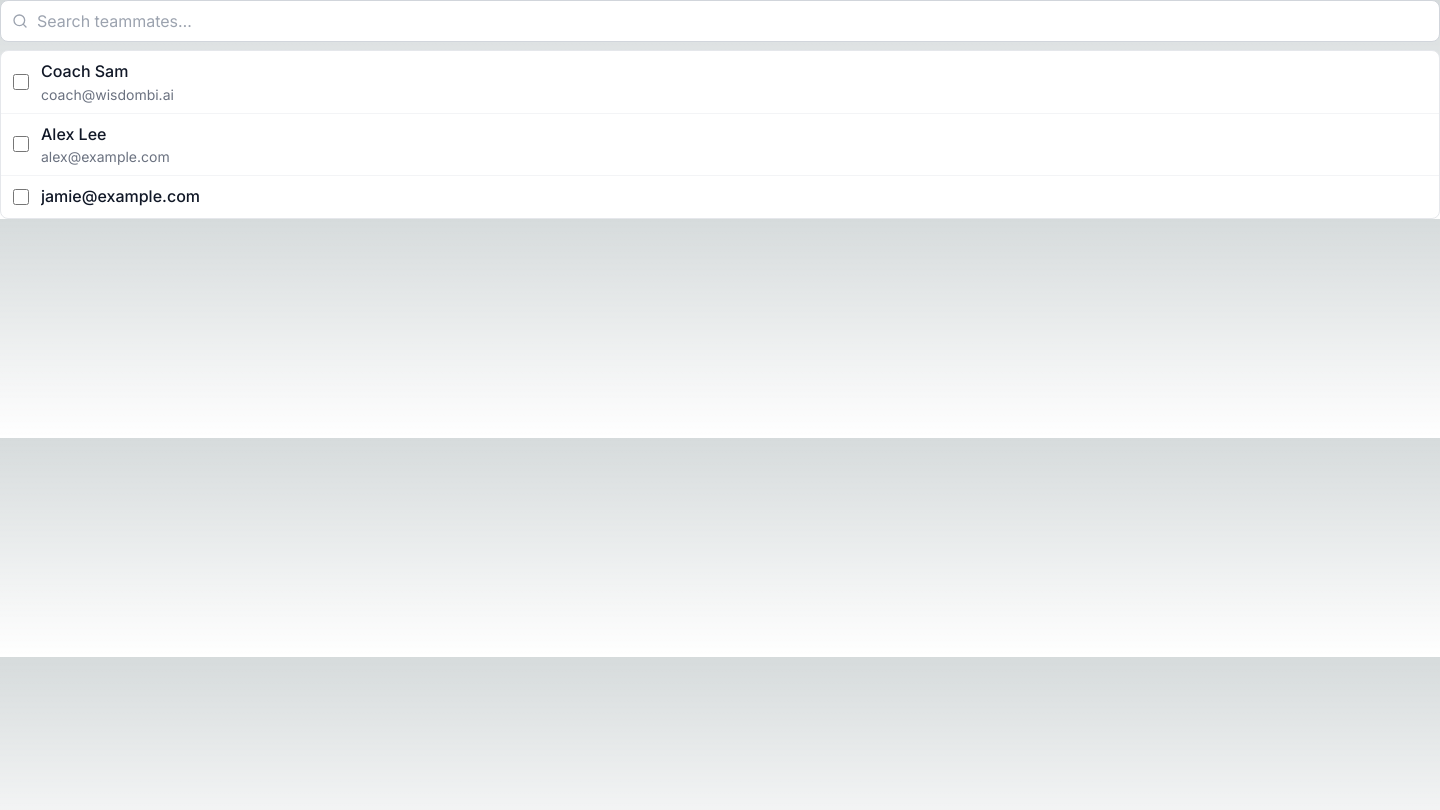
it: TeammatePicker › filters by display name substring (case-insensitive)
Type "aLex" into the field labelled "Search teammates" at (720, 21), box top-left (0, 0), bottom-right (1439, 42)
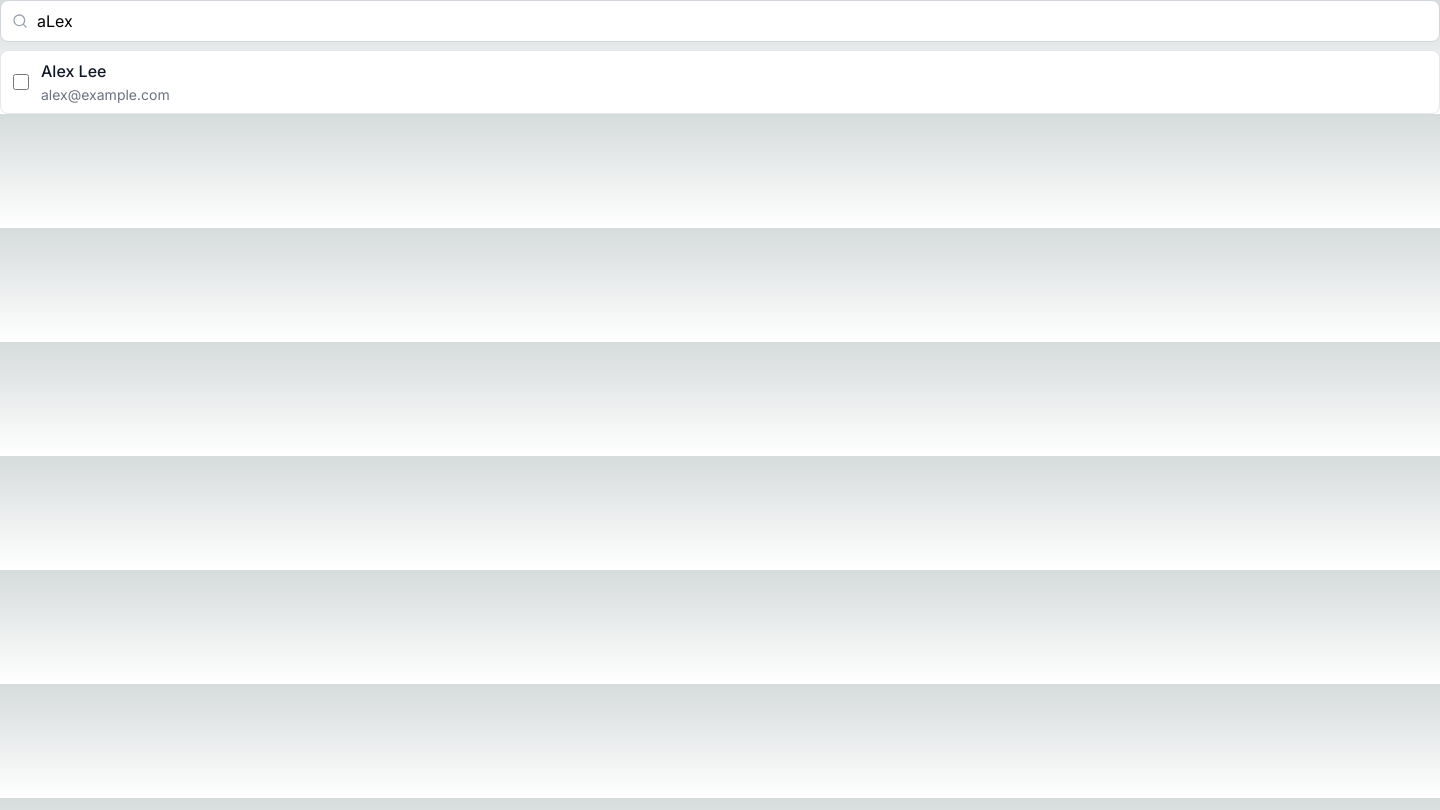
Check: the text "Alex Lee alex@example.com" is shown, box top-left (13, 61), bottom-right (170, 103)
Check: the label with test id "teammate-option-u-coach" is gone
Check: the label with test id "teammate-option-u-team2" is gone
